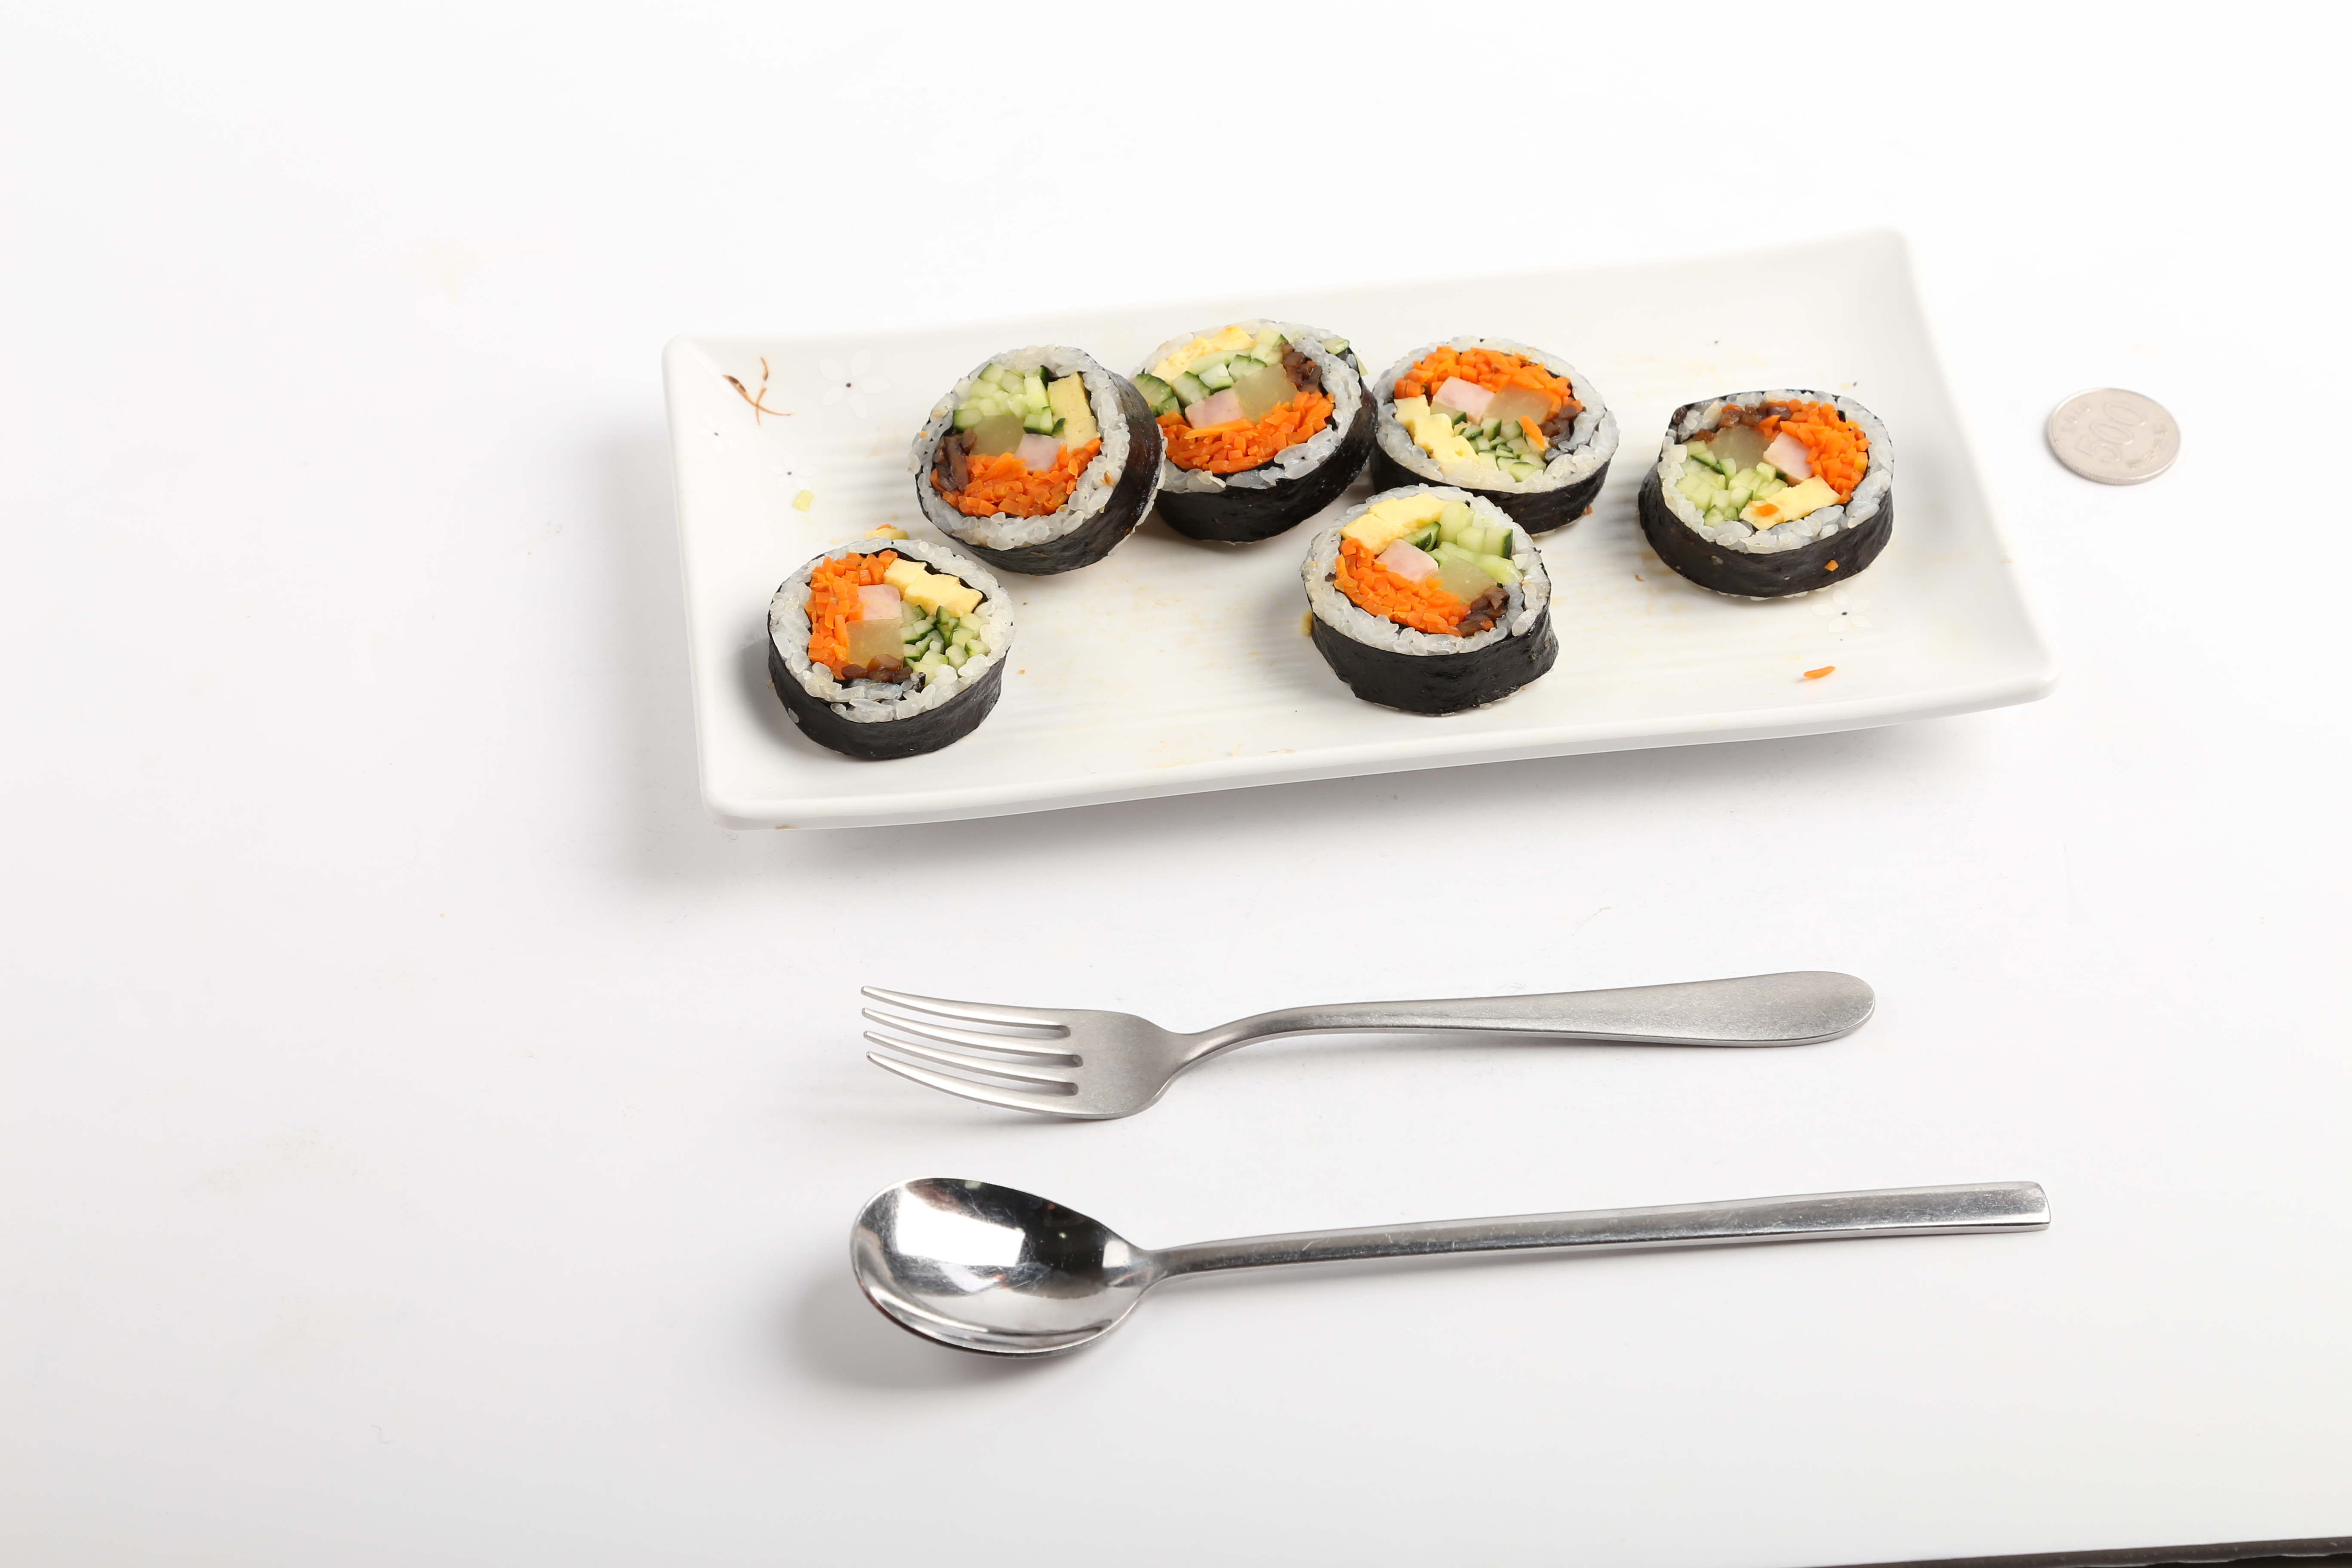dish: (661, 220, 2060, 831)
ref_coin: (2033, 383, 2187, 486)
ref_fork: (852, 982, 1265, 1123)
ref_spoon: (843, 1178, 1267, 1360)
김밥: (758, 308, 1895, 766)
